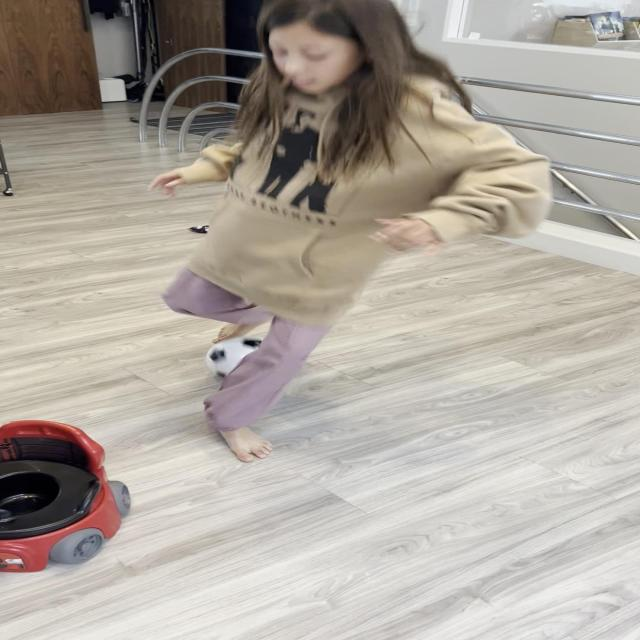Soccer Ball: (206, 336, 286, 383)
